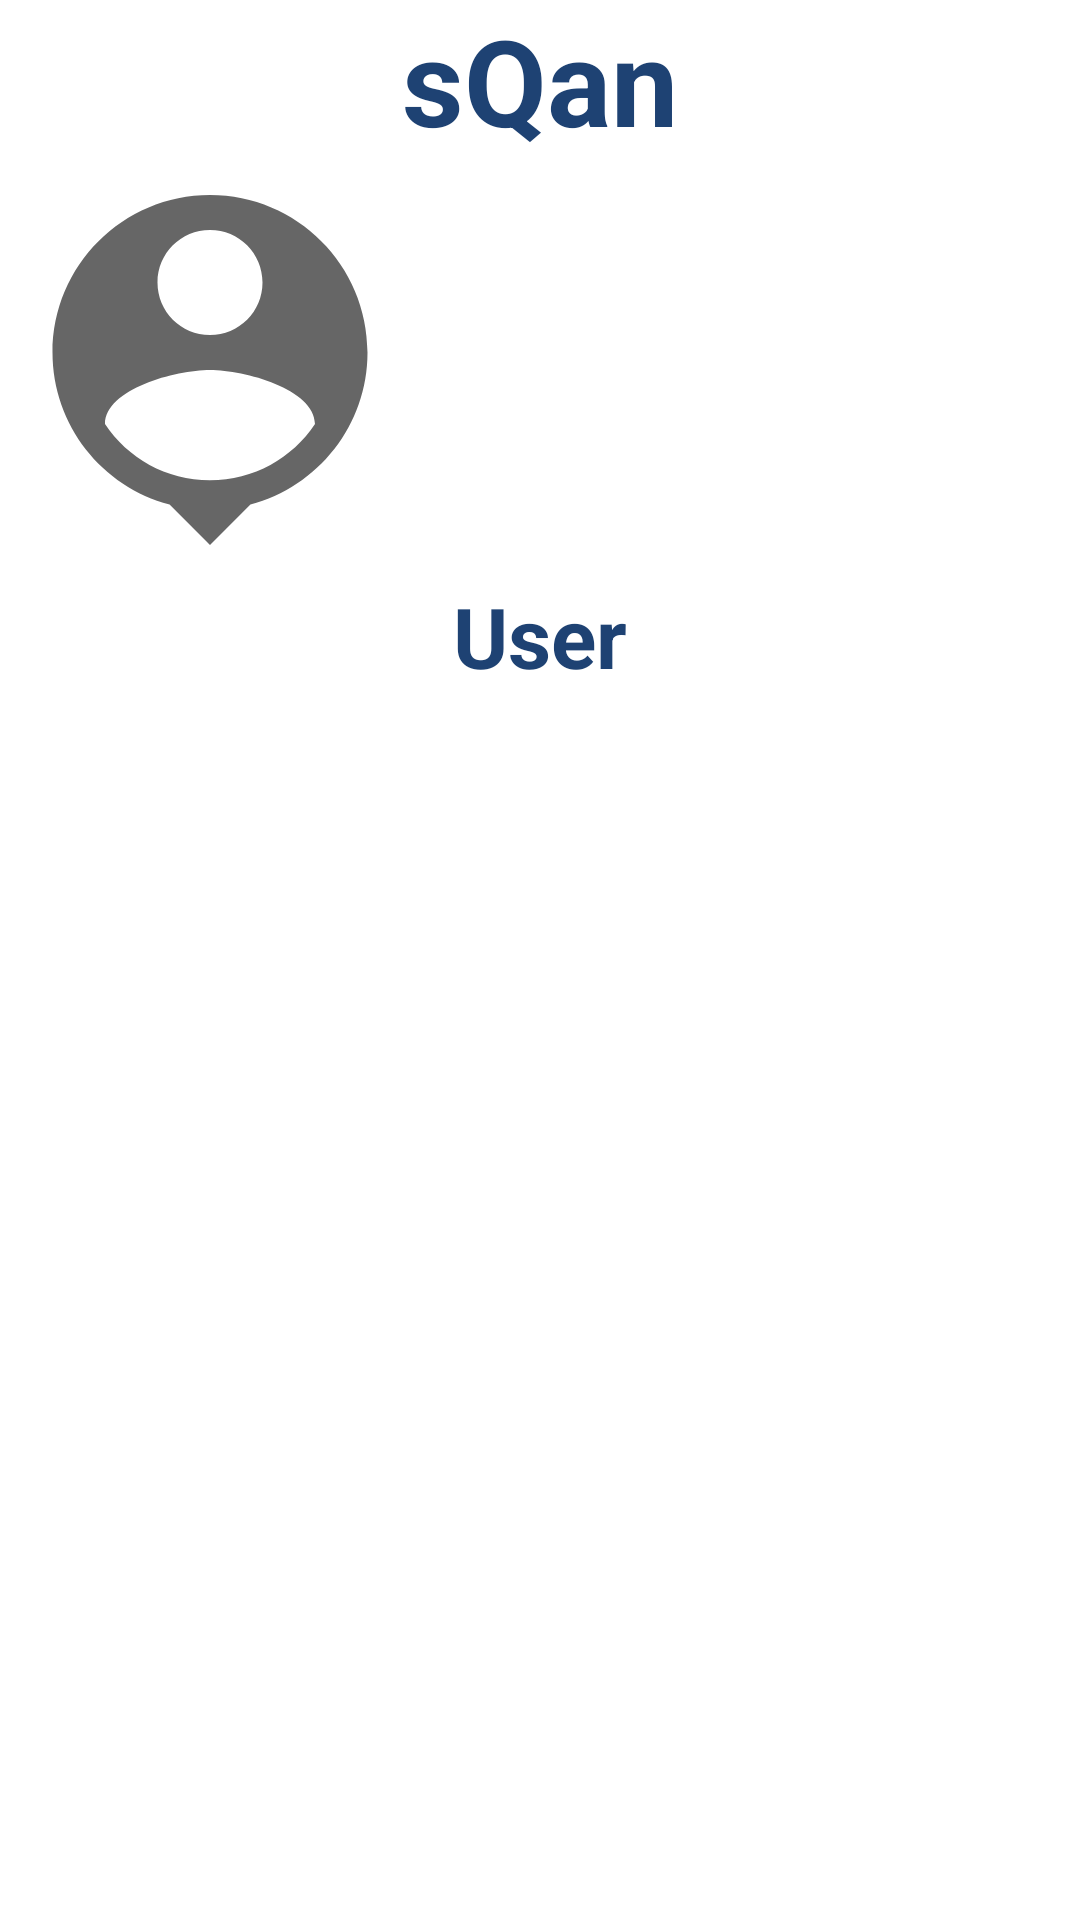

Where to tap for icons on this 1080w x 1920h app screen, as (x,y):
person: (210,370)
